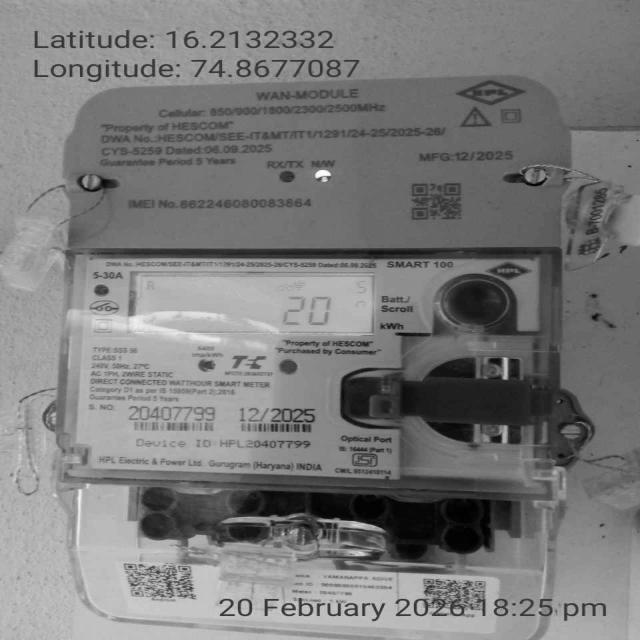meter: (67, 82, 560, 484)
